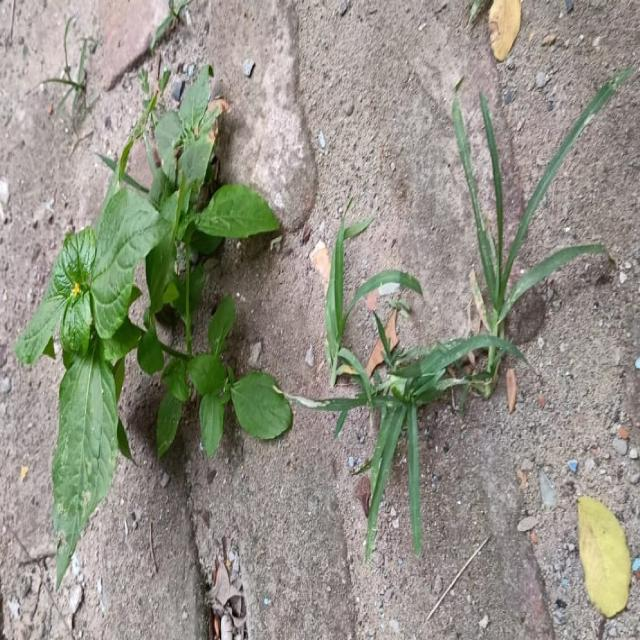weed: (15, 65, 292, 587)
